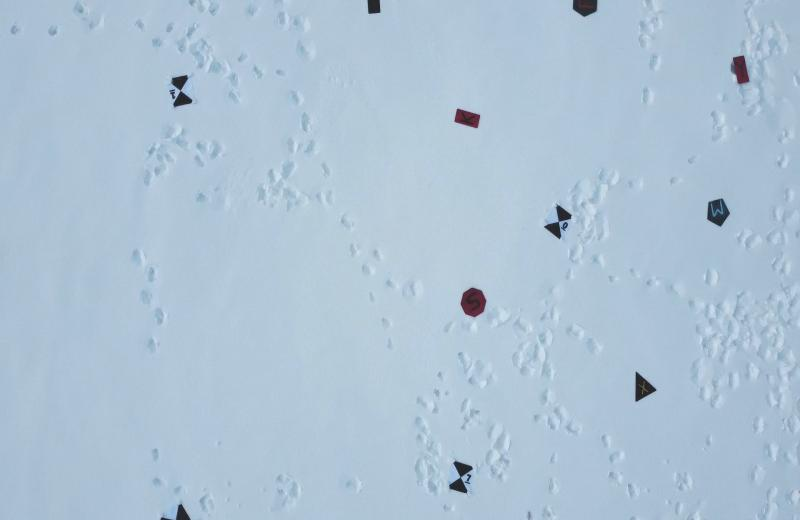Hexagon: (568, 0, 602, 20)
Octagon: (459, 286, 488, 320)
Pentagon: (704, 193, 733, 226)
Rectangle: (448, 102, 482, 134), (729, 53, 748, 85)
Square: (365, 0, 384, 20)
Triangle: (627, 367, 658, 405)
